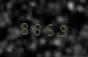eight: (18, 18, 29, 36), (30, 19, 41, 36)
five: (42, 19, 53, 37)
nine: (54, 20, 65, 38)
